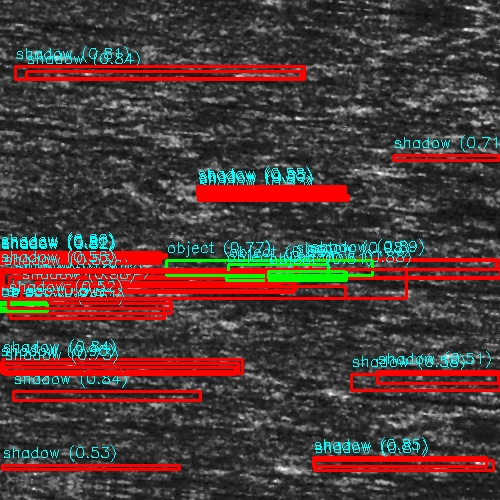rock: (197, 260, 374, 273), (0, 277, 93, 290), (254, 457, 359, 468), (406, 0, 500, 11), (0, 67, 71, 80), (465, 322, 500, 341), (346, 375, 409, 384), (26, 392, 99, 399), (470, 385, 500, 402), (456, 216, 500, 227), (10, 434, 51, 441), (0, 304, 41, 309), (0, 341, 18, 350), (183, 197, 214, 202), (183, 187, 214, 192), (156, 297, 197, 300), (188, 277, 219, 280), (388, 156, 409, 159)
shadow: (25, 67, 321, 80), (31, 277, 311, 290), (286, 260, 500, 273), (0, 363, 247, 372), (307, 457, 500, 468), (0, 396, 212, 403), (0, 34, 145, 43), (0, 456, 140, 465), (378, 375, 500, 384), (0, 361, 138, 368), (63, 392, 201, 399), (0, 256, 161, 261), (199, 197, 347, 202), (199, 187, 347, 192), (15, 304, 153, 309), (0, 467, 198, 470), (31, 434, 99, 441), (0, 341, 50, 350), (464, 0, 500, 11), (0, 135, 35, 146), (399, 156, 500, 159), (416, 273, 500, 276), (204, 277, 277, 280), (177, 297, 249, 300)
